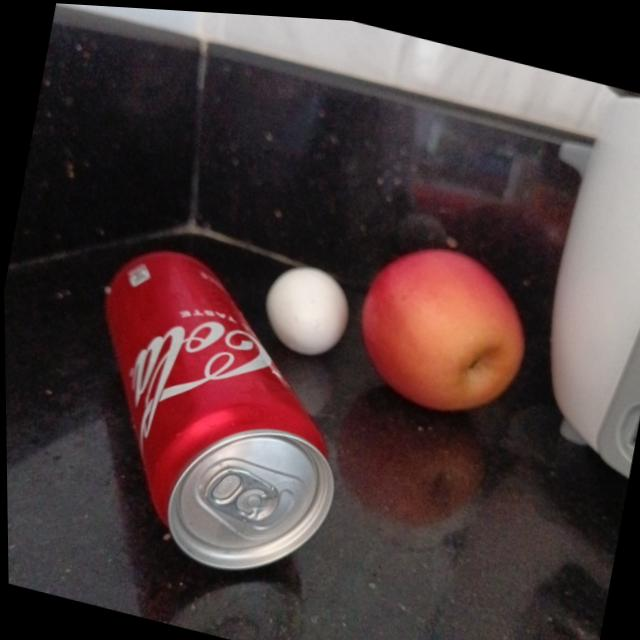apple: (347, 229, 536, 422)
coke: (54, 231, 366, 593)
egg: (257, 255, 353, 360)
